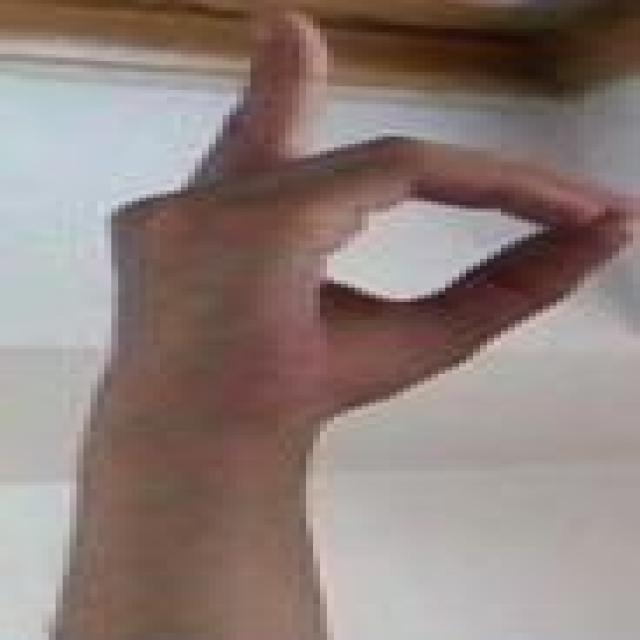D1: (11, 5, 640, 428)
